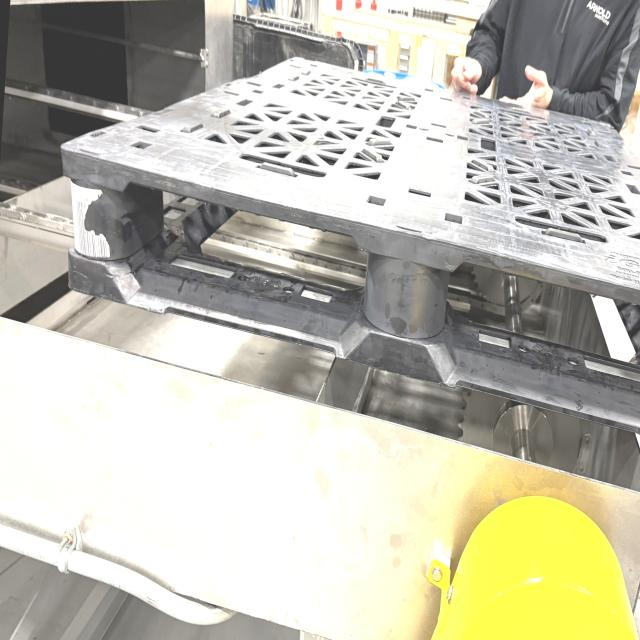igps: (51, 41, 640, 448)
